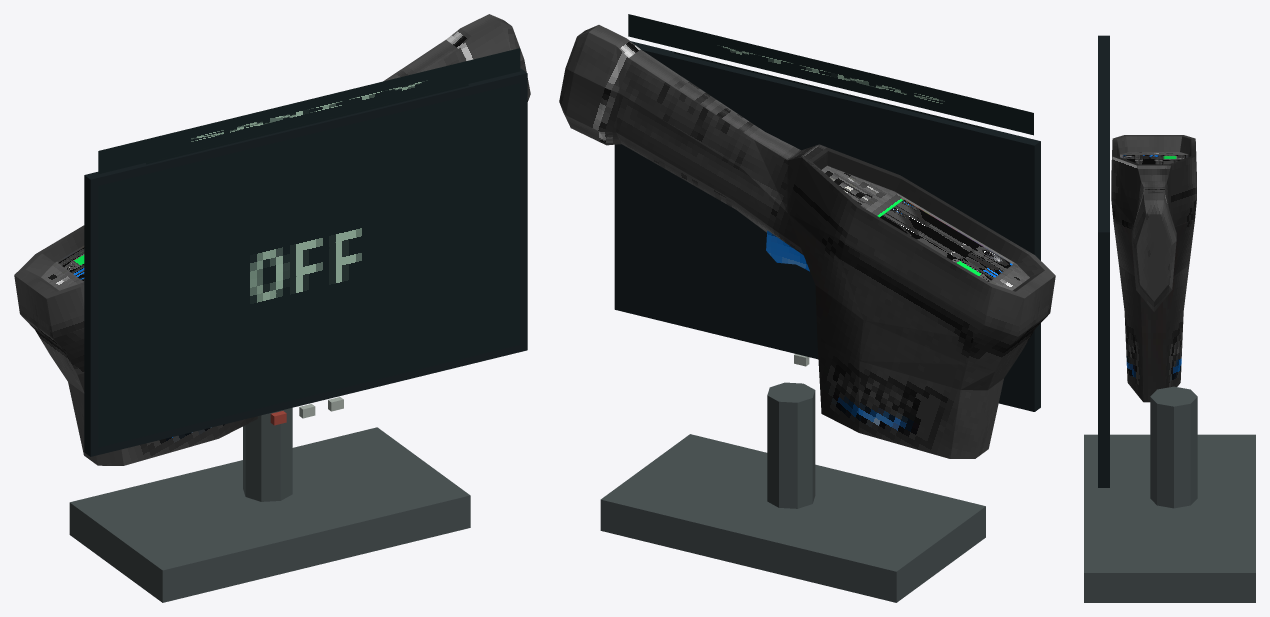
File: blender_sanity_monitor_2.glb
3 views of the same model, side by side, from view 1: azimuth 30°, elevation 25°; view 2: azimuth 150°, elevation 25°; view 3: azimuth 270°, elevation 25° (orthographic). The views are drawn at different scales.
Parts seen in each view (by area): view 1: blender_sanity_monitor_2; view 2: blender_sanity_monitor_2; view 3: blender_sanity_monitor_2.
Part boxes in pixels (x1=…): blender_sanity_monitor_2: x1=14, y1=14, x2=530, y2=602; blender_sanity_monitor_2: x1=559, y1=14, x2=1055, y2=602; blender_sanity_monitor_2: x1=1084, y1=35, x2=1255, y2=602.
Size of the model in its own units: 0.4 by 0.3595 by 0.13.
1 material, 1 textured.
